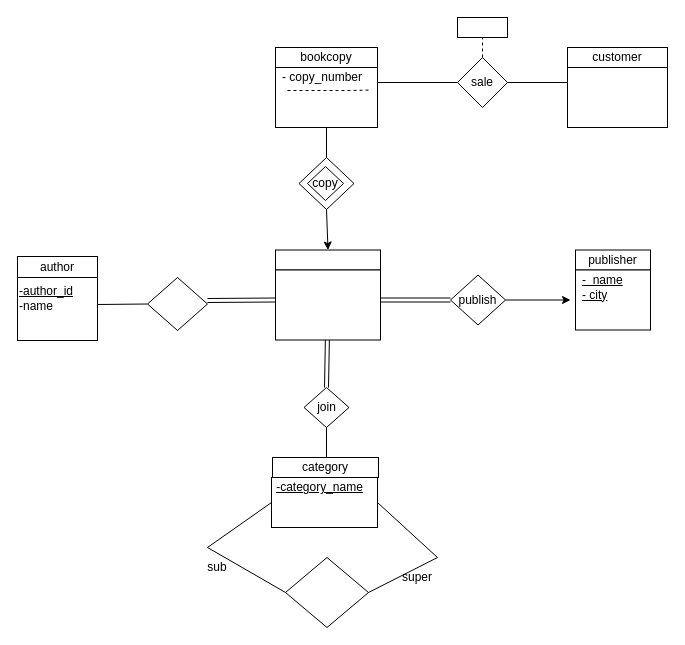
Some shapes in this 685 by 645 pixel diagram are drawn without their labels. Each missing label, with the box of its shape:
- ISBN - title - public_year - price: (274, 269, 380, 340)
- TCK_num - name - address - phone_number: (566, 66, 668, 128)
book: (274, 249, 380, 270)
date: (456, 16, 508, 38)
subcategory: (284, 556, 368, 628)
written by: (146, 276, 208, 330)
